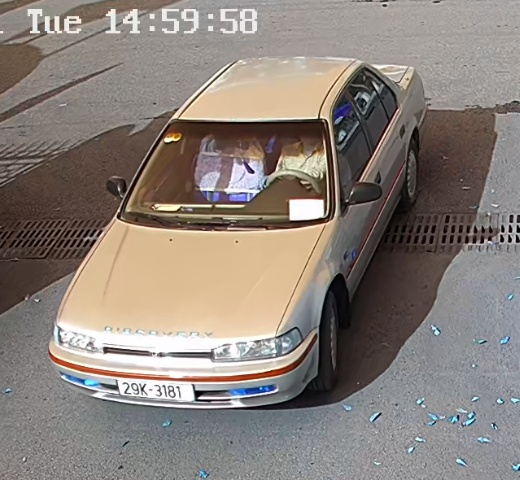vehicle plate: (109, 371, 200, 403)
